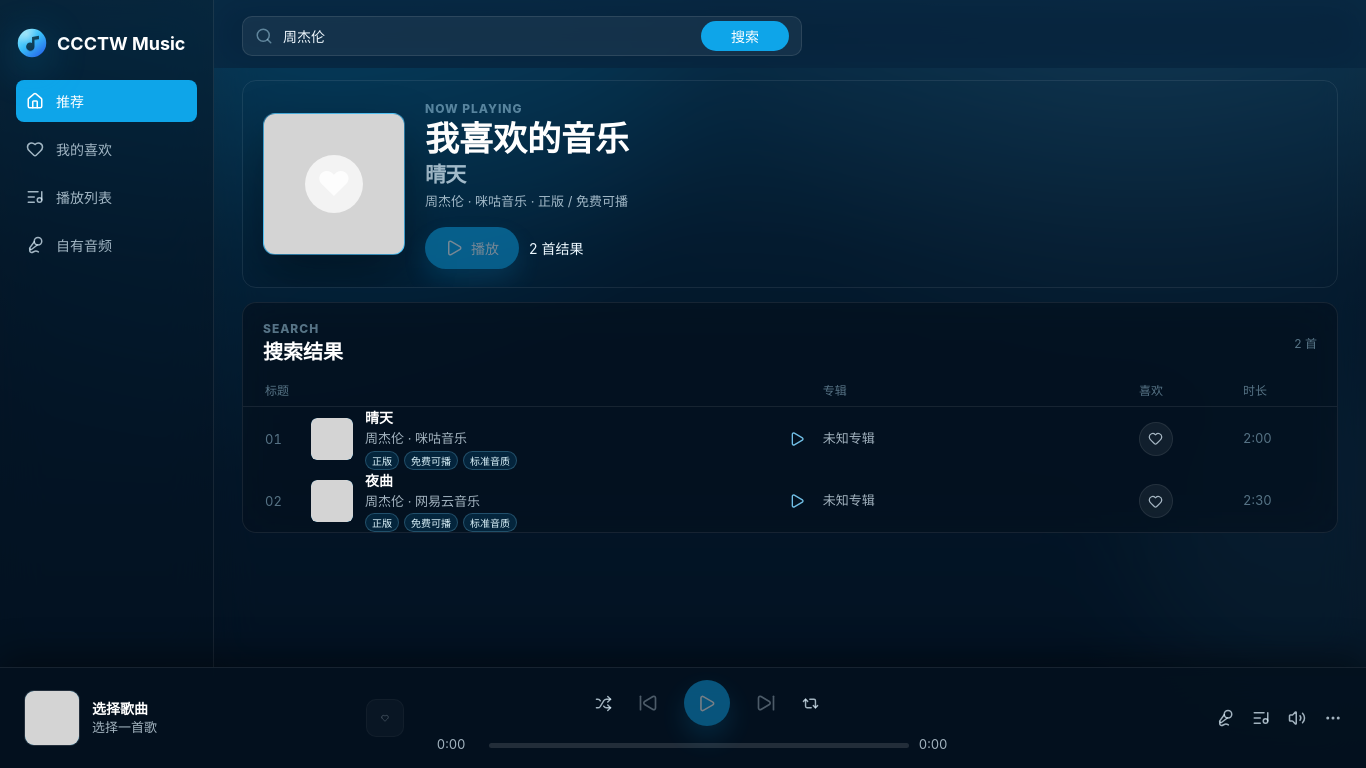
Test case: App › validates owned audio input before adding it
Click the button "自有音频" at [106, 245], box [16,224,197,266]
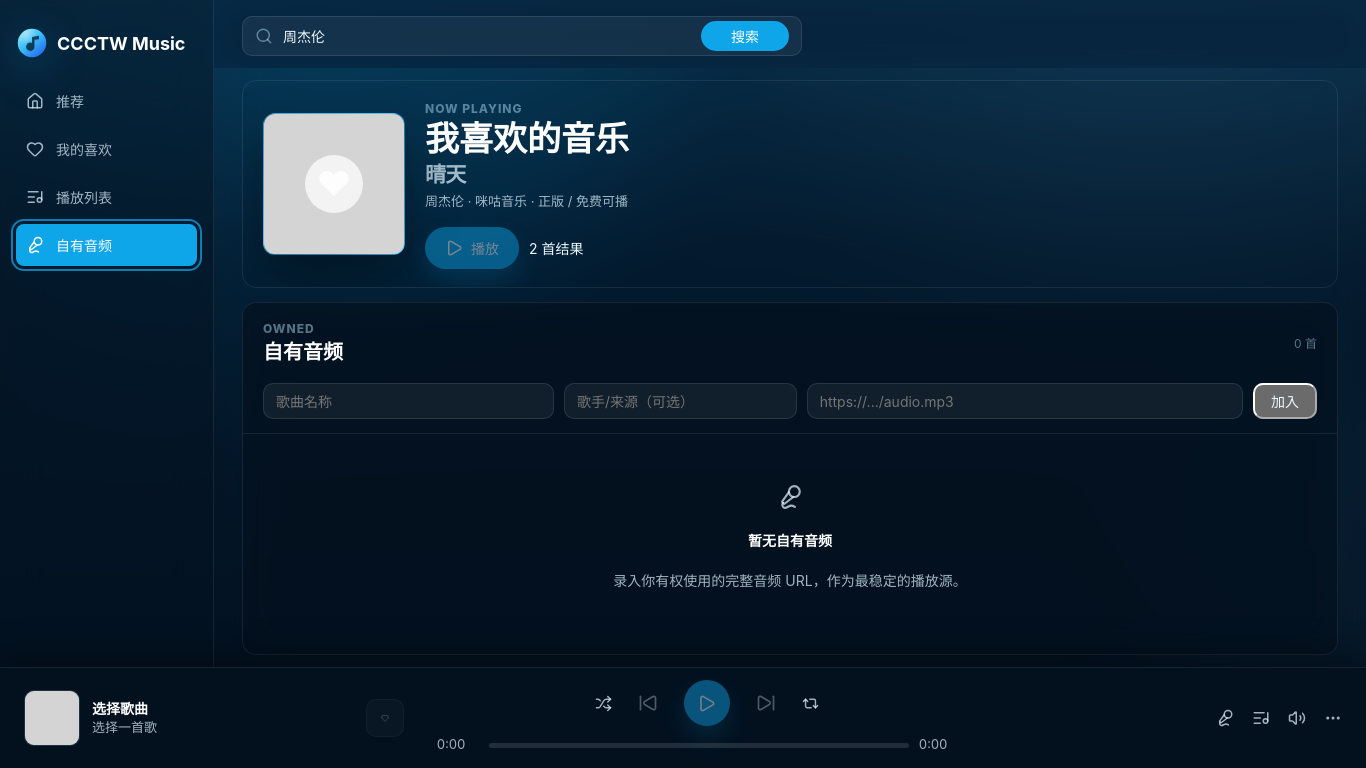
Click the button "加入" at [1285, 401], box [1253,383,1317,419]
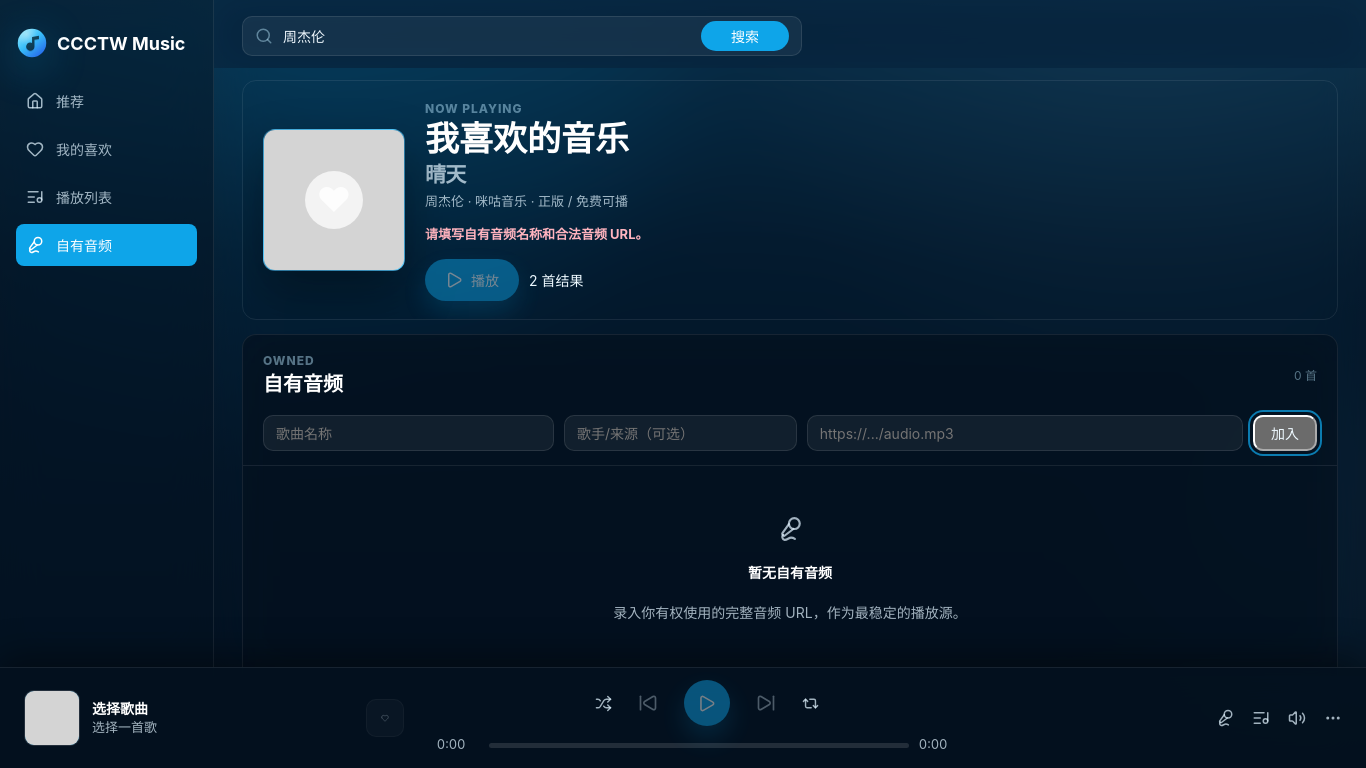
Check: the text "请填写自有音频名称和合法音频 URL。" is shown, box [425,226,648,242]
Type "非法 URL" into the field named "自有音频名称" at [408, 433], box [263,415,554,451]
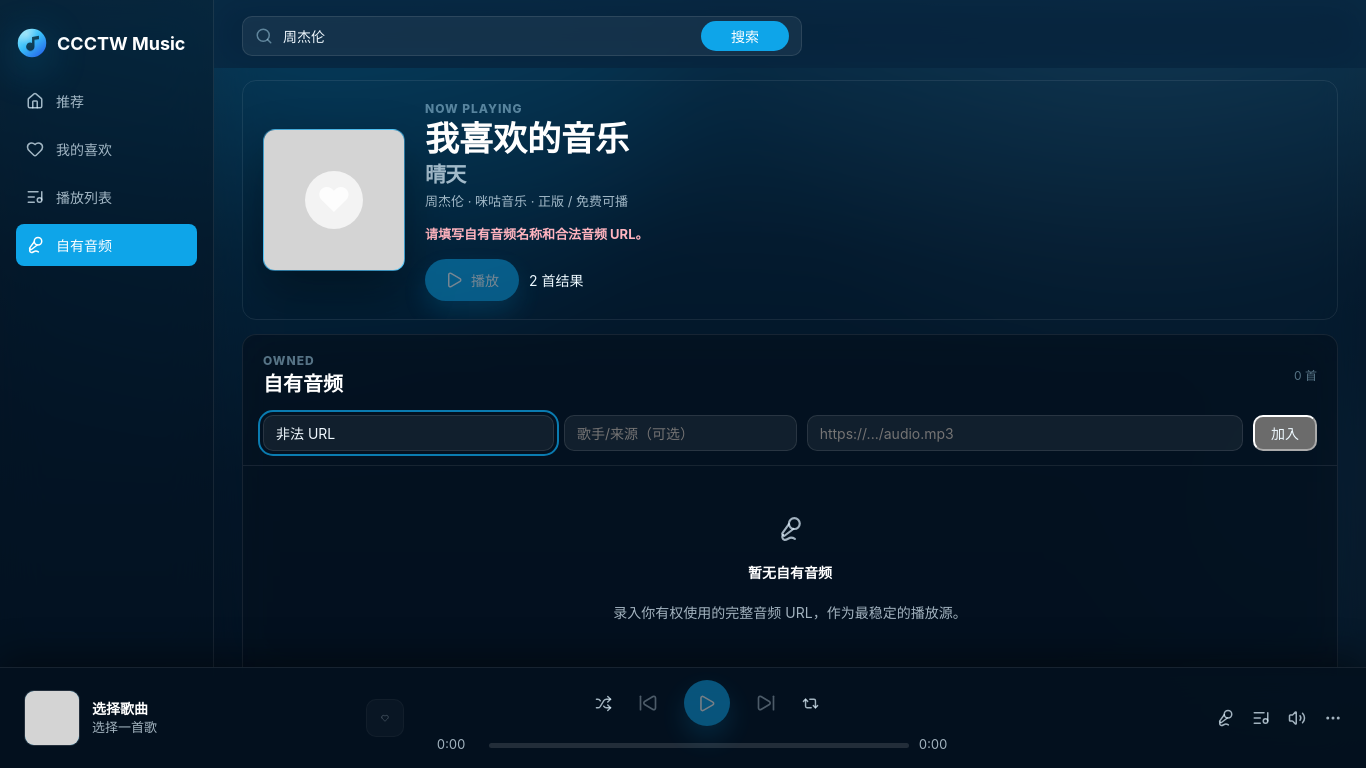
Type "ftp://cdn.example.com/audio.mp3" into the field named "自有音频 URL" at [1025, 433], box [807,415,1243,451]
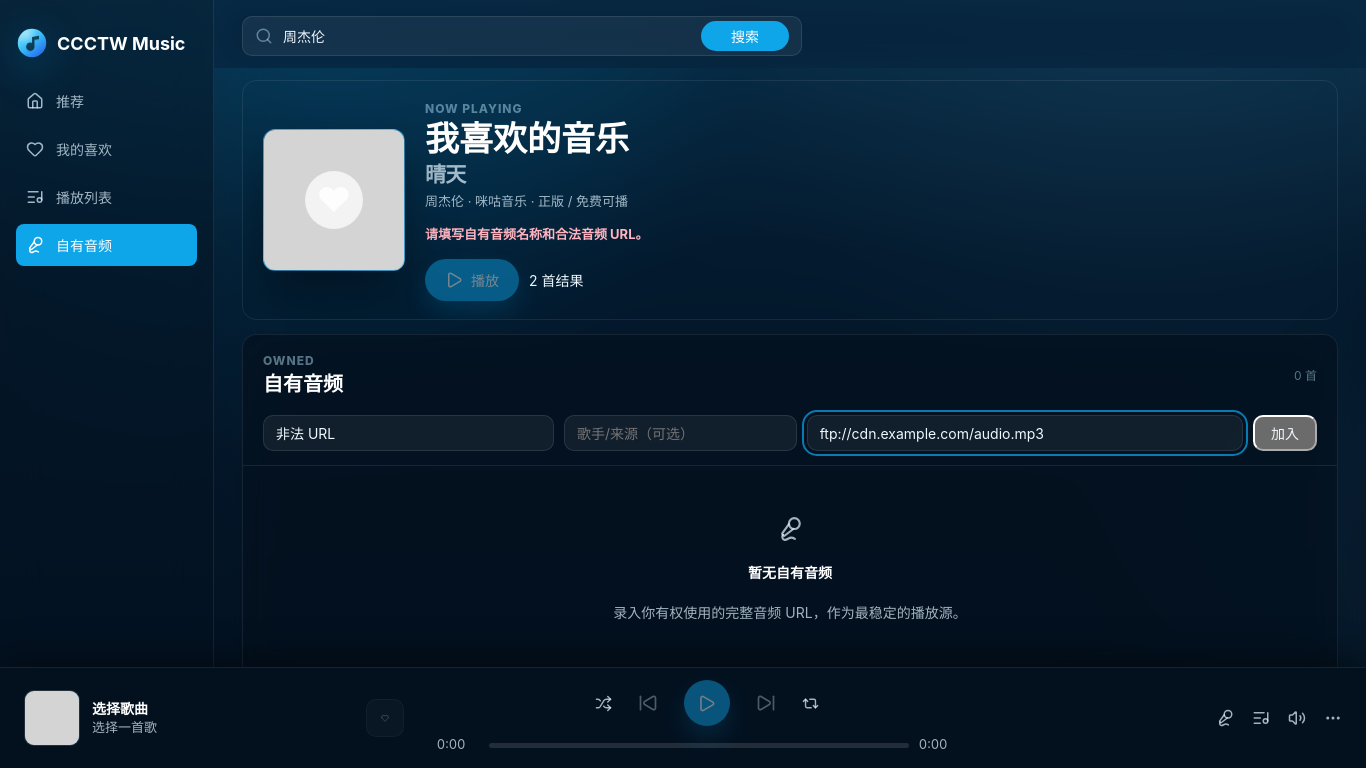
Click the button "加入" at [1285, 433], box [1253,415,1317,451]
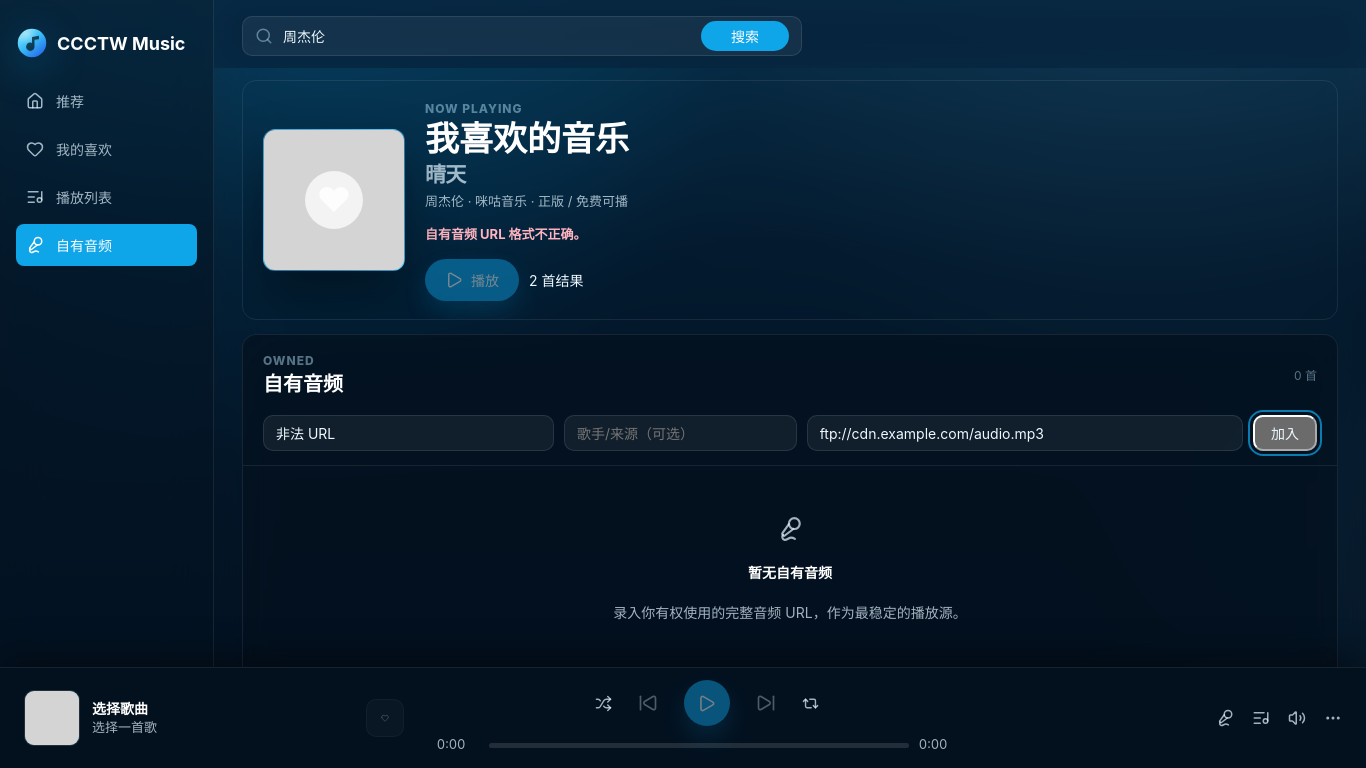
Check: the text "自有音频 URL 格式不正确。" is shown, box [425,226,587,242]
